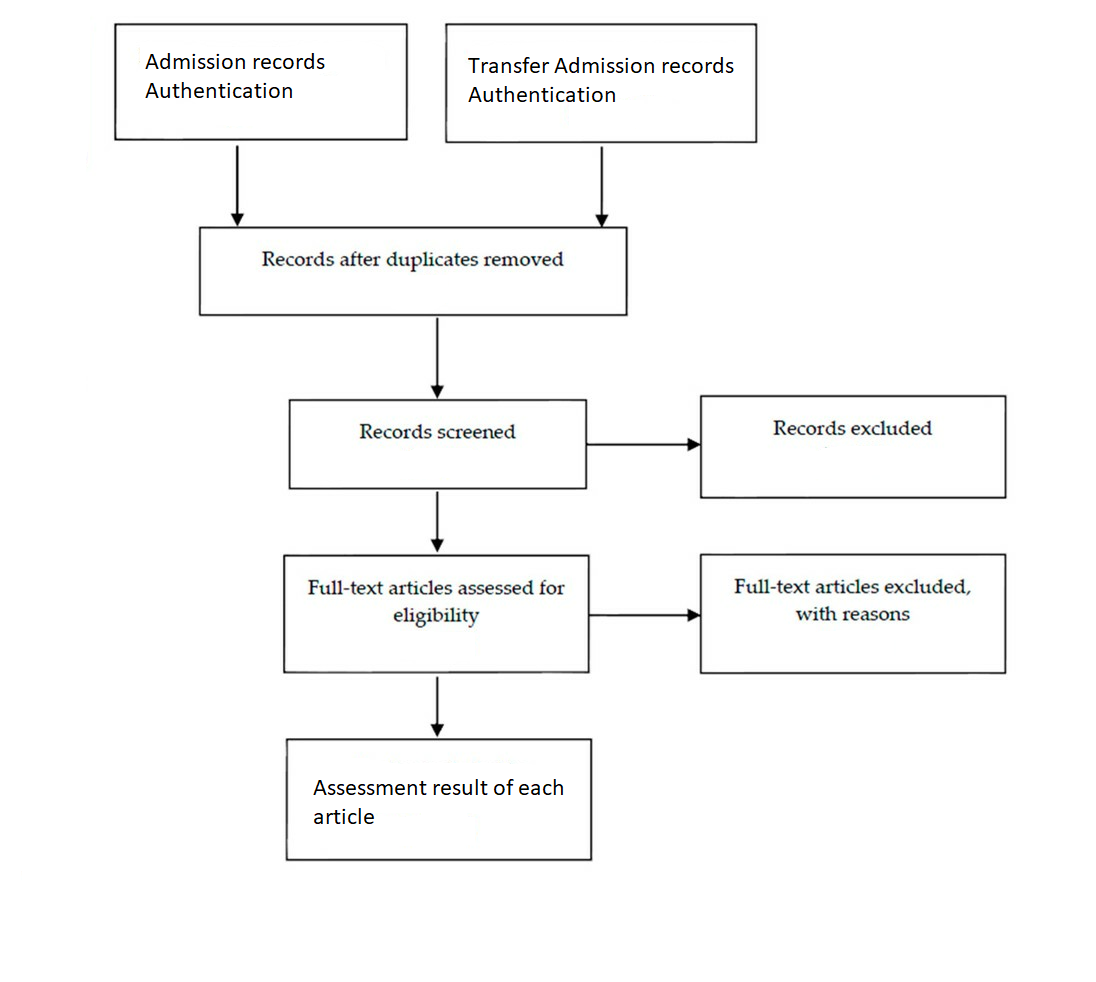arrow: (583, 433, 703, 457), (583, 604, 704, 625), (587, 142, 615, 232), (225, 138, 249, 229), (424, 487, 450, 559), (428, 309, 447, 405), (426, 670, 448, 737)
process: (192, 219, 639, 320), (439, 15, 764, 148), (691, 547, 1011, 681), (280, 733, 596, 865), (278, 551, 596, 678), (108, 16, 411, 146), (693, 389, 1014, 502), (283, 392, 592, 492)
text: (302, 574, 574, 631), (465, 53, 742, 108), (730, 570, 981, 625), (307, 774, 568, 825), (138, 42, 331, 102), (255, 245, 567, 274), (355, 418, 520, 447), (770, 418, 938, 436)
